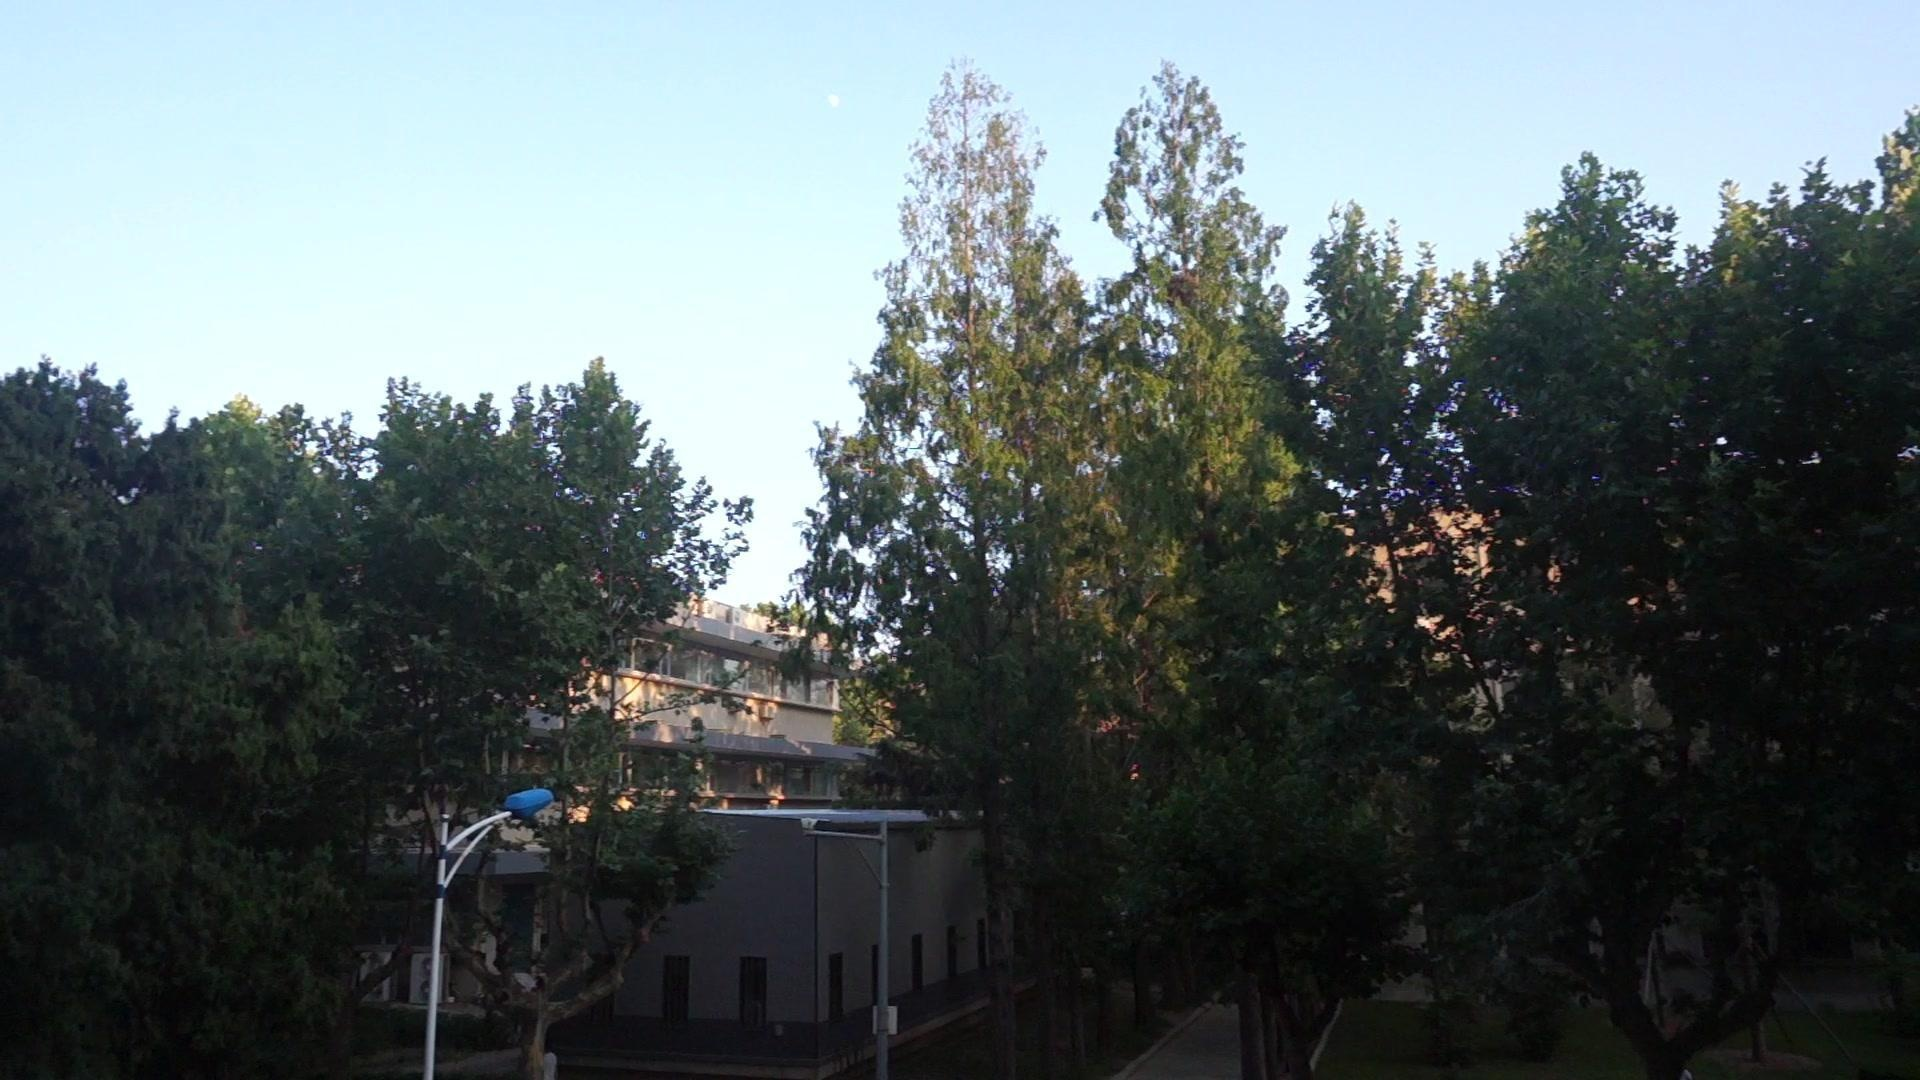UAV: (823, 448, 858, 463)
